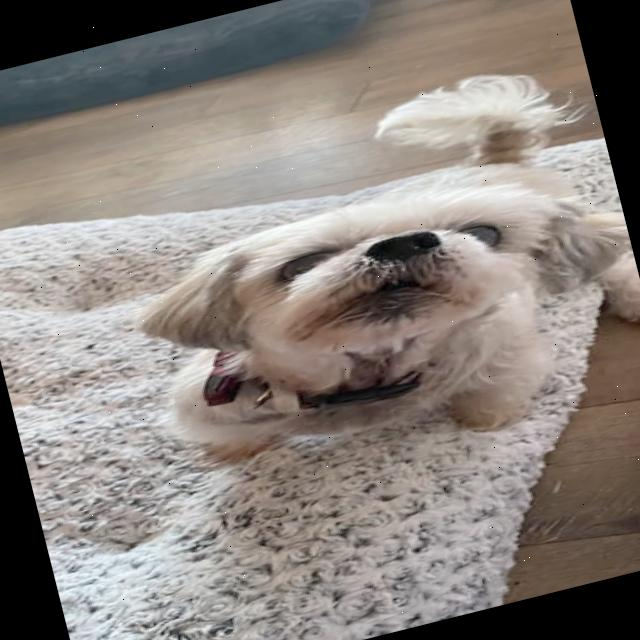shih_tzu_dog: (105, 140, 631, 420)
